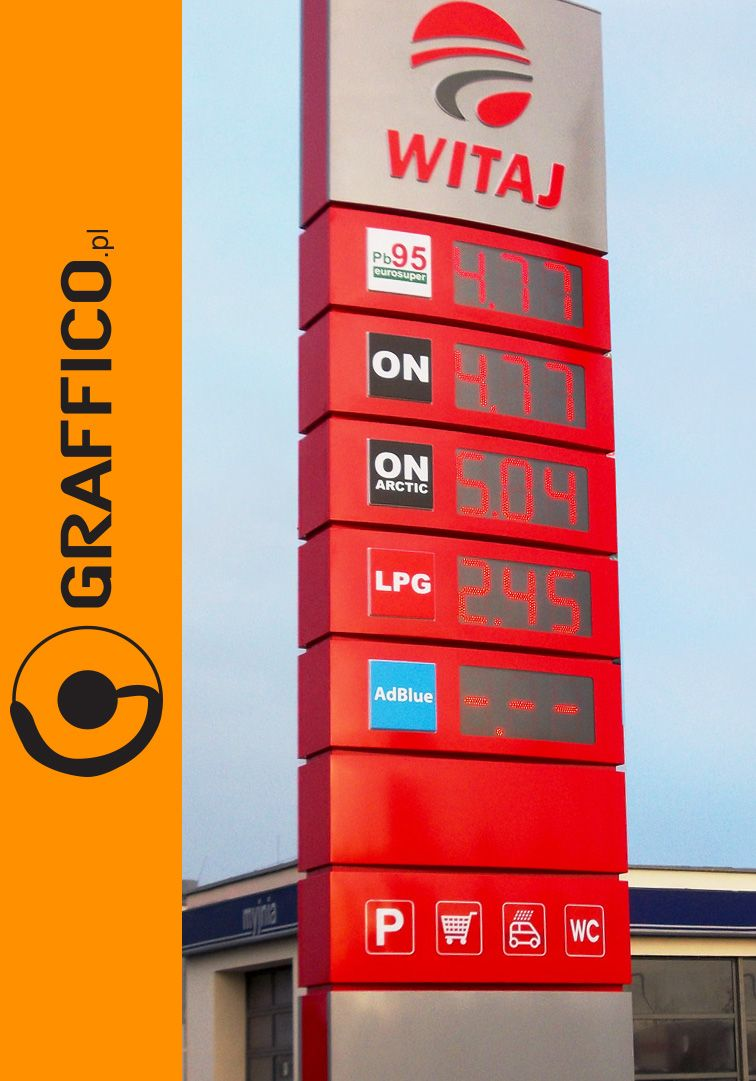LPG: (365, 544, 441, 622)
ON: (365, 321, 440, 407), (367, 432, 436, 511)
PB95: (362, 223, 435, 298)
